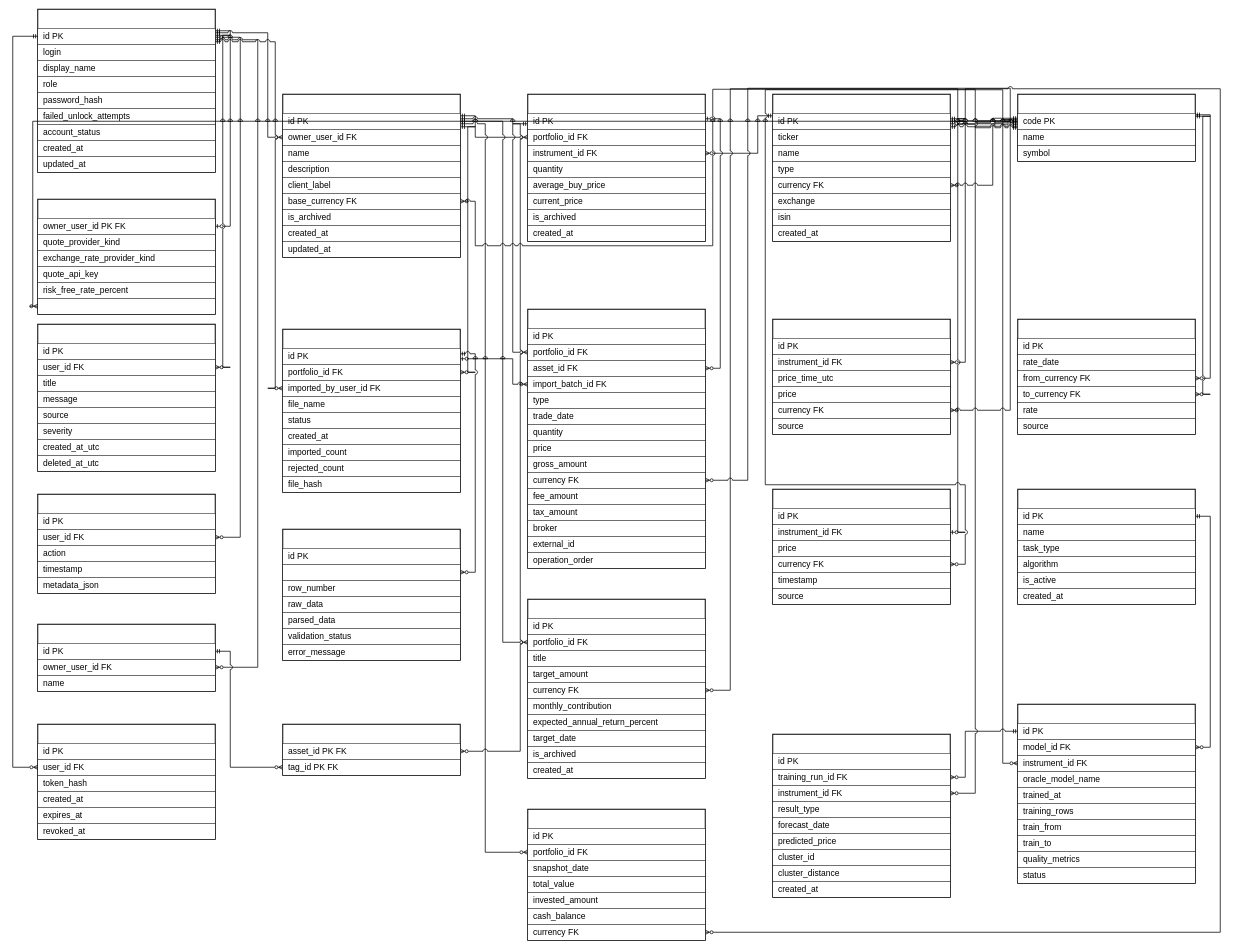
Image size: 1234x949. Some labels were removed from this diagram. Each missing label, with the box of its shape:
asset_prices: (772, 318, 950, 434)
asset_tags: (282, 724, 460, 776)
assets: (527, 94, 706, 242)
audit_log: (37, 494, 216, 594)
auth_sessions: (37, 724, 216, 840)
batch_id FK: (282, 564, 460, 580)
currencies: (1017, 94, 1196, 162)
exchange_rates: (1017, 318, 1196, 434)
goals: (527, 598, 706, 778)
import_batches: (282, 328, 460, 492)
import_rows: (282, 528, 460, 660)
instruments: (772, 94, 950, 242)
ml_models: (1017, 488, 1196, 604)
ml_results: (772, 734, 950, 898)
ml_training_runs: (1017, 704, 1196, 884)
notifications: (37, 324, 216, 472)
portfolio_snapshots: (527, 808, 706, 940)
portfolios: (282, 94, 460, 258)
quote_cache: (772, 488, 950, 604)
risk_free_currency FK: (37, 298, 215, 314)
tags: (37, 624, 216, 692)
transactions: (527, 308, 706, 568)
user_settings: (37, 198, 216, 314)
users: (37, 8, 216, 172)
